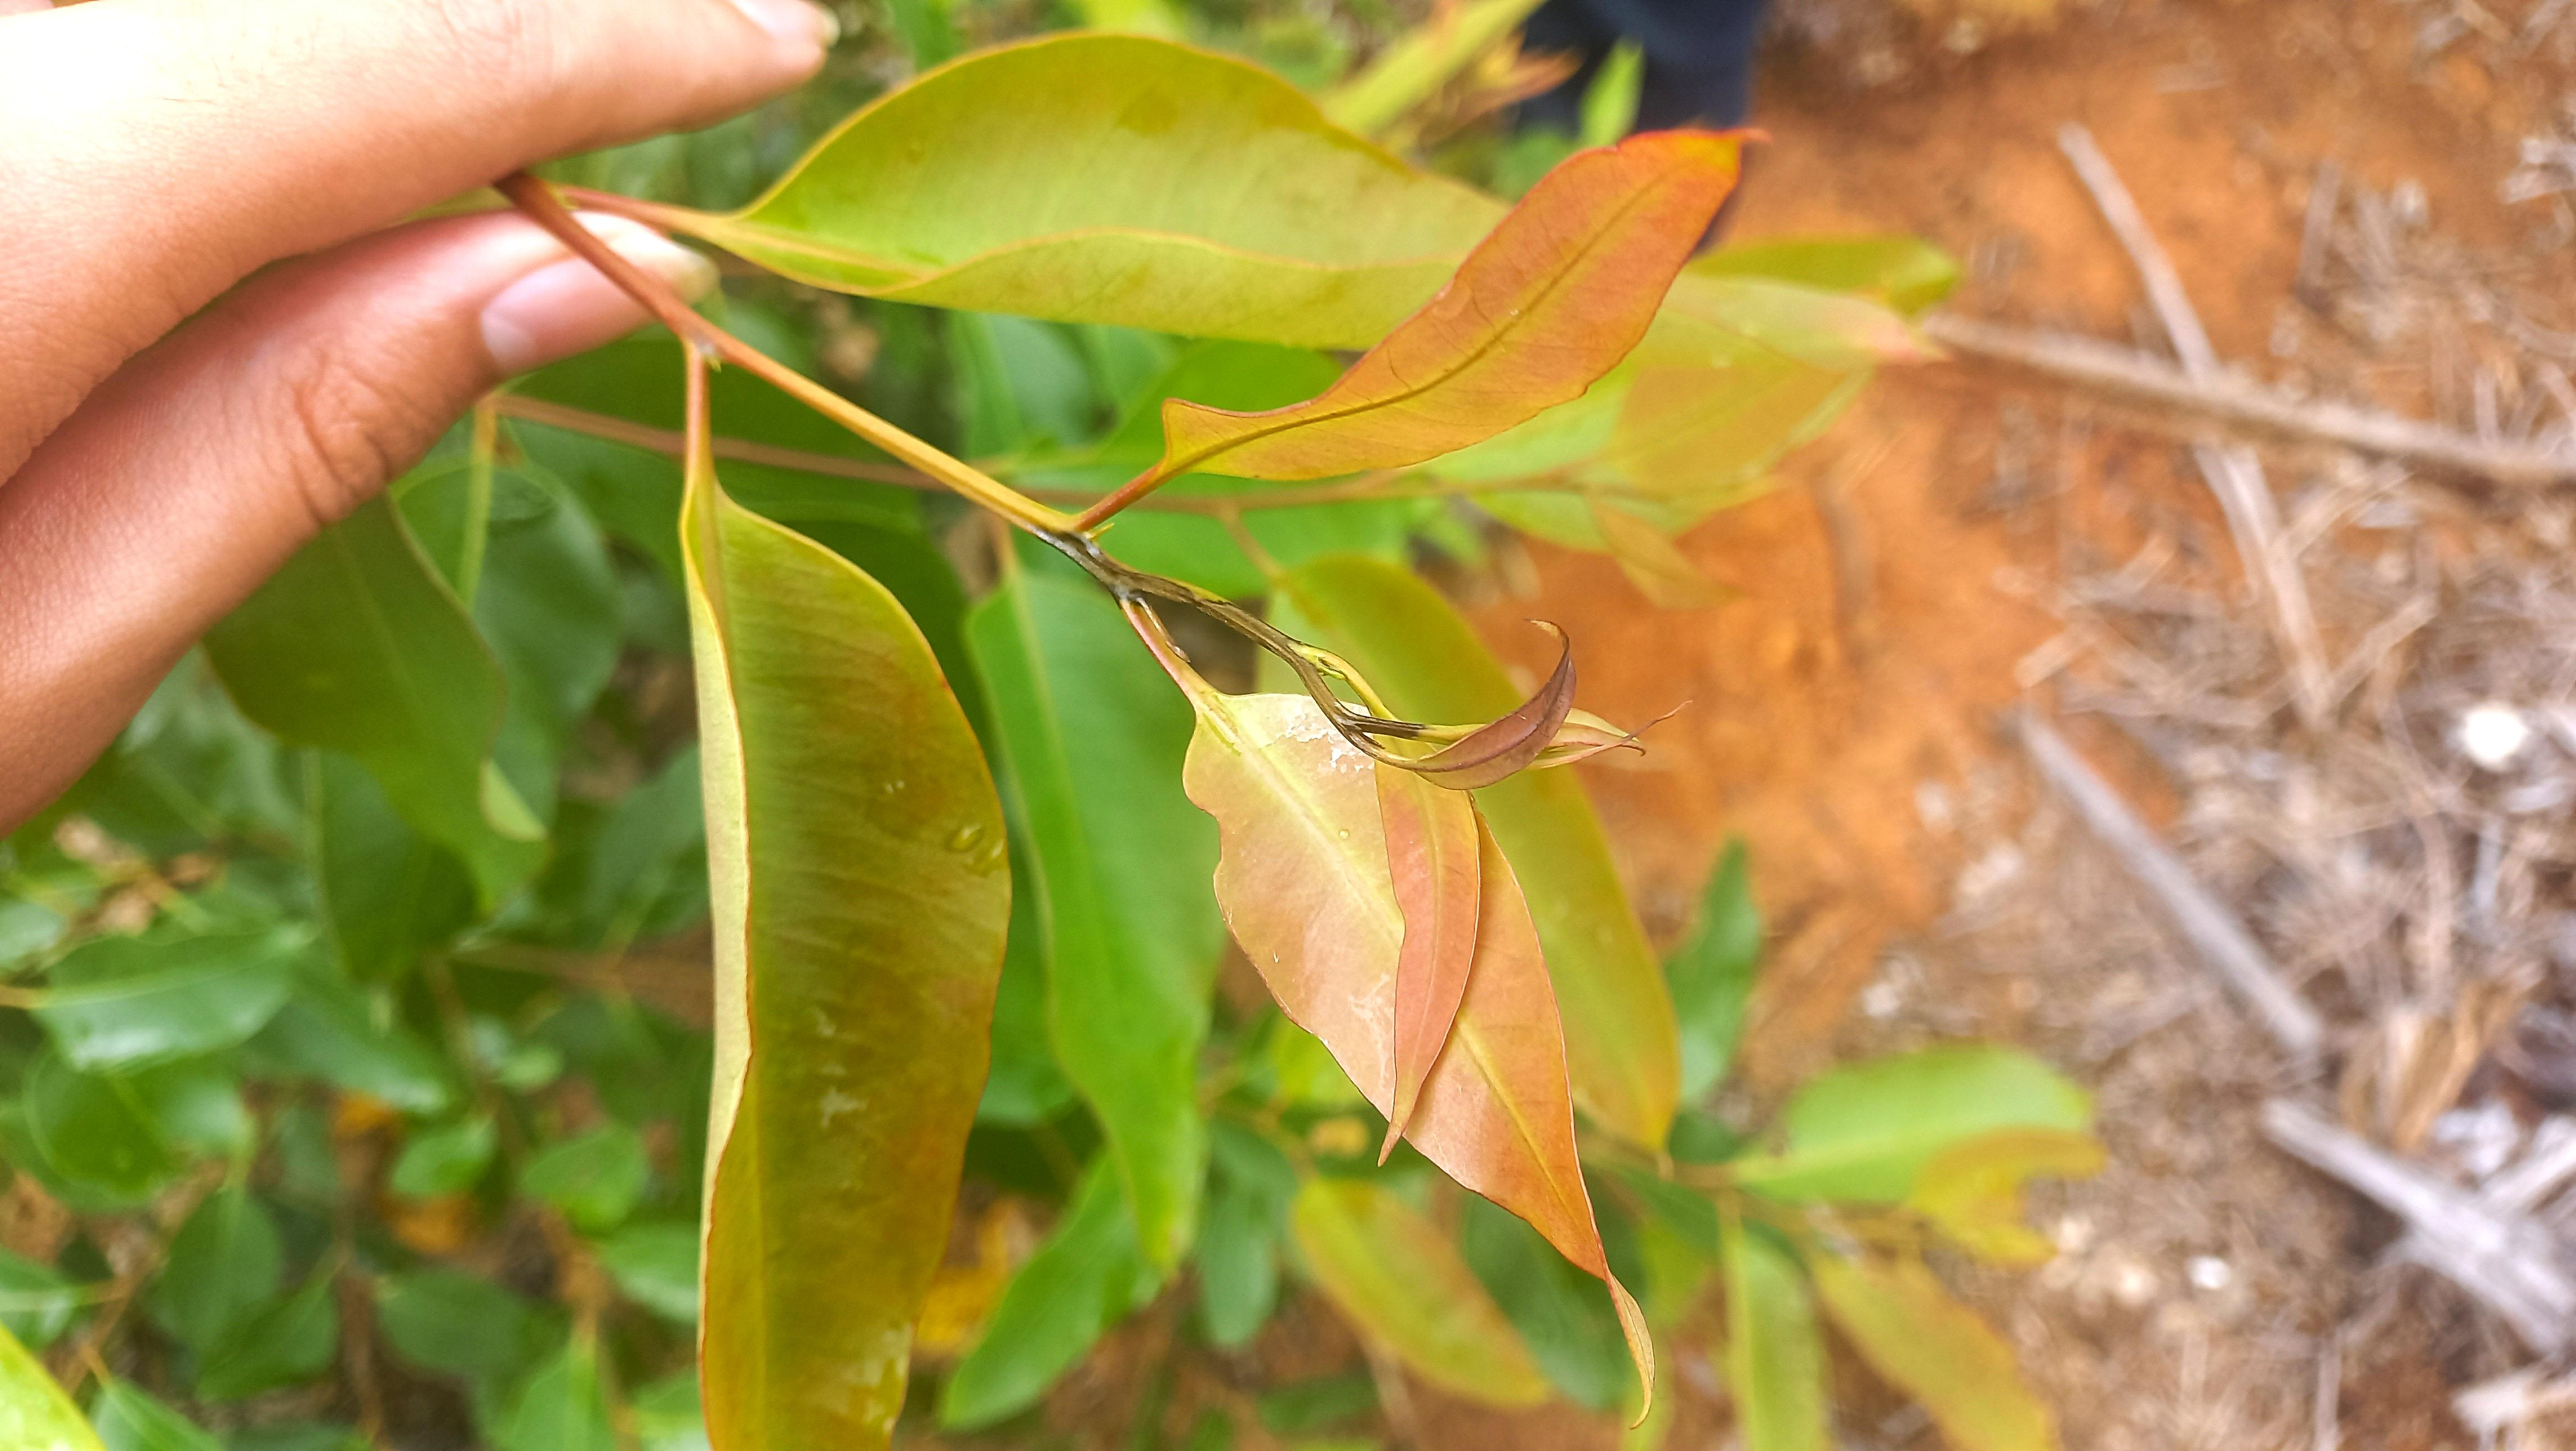Helopeltis-Withered Sprout: (1373, 722, 1488, 1184), (1299, 614, 1582, 800), (1364, 701, 1642, 772)
